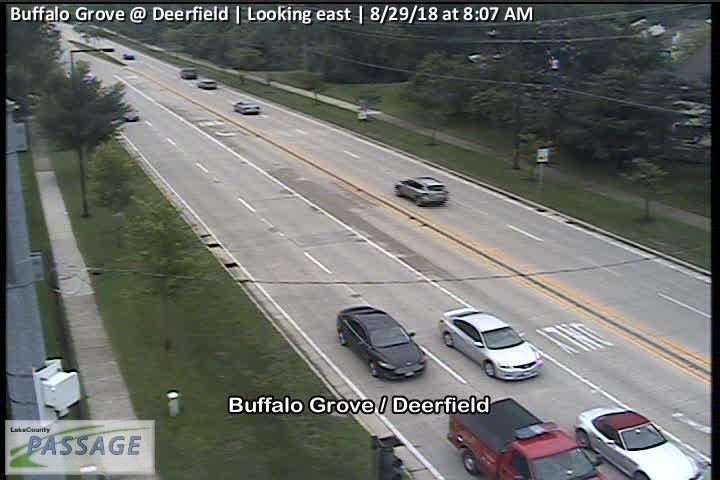SUV: (393, 177, 449, 205)
Sedan: (574, 407, 703, 480), (441, 308, 543, 380), (337, 307, 430, 382), (232, 99, 262, 114), (198, 79, 217, 90), (122, 110, 140, 121), (180, 68, 197, 78), (123, 54, 134, 59)
Truck: (445, 395, 610, 480)
